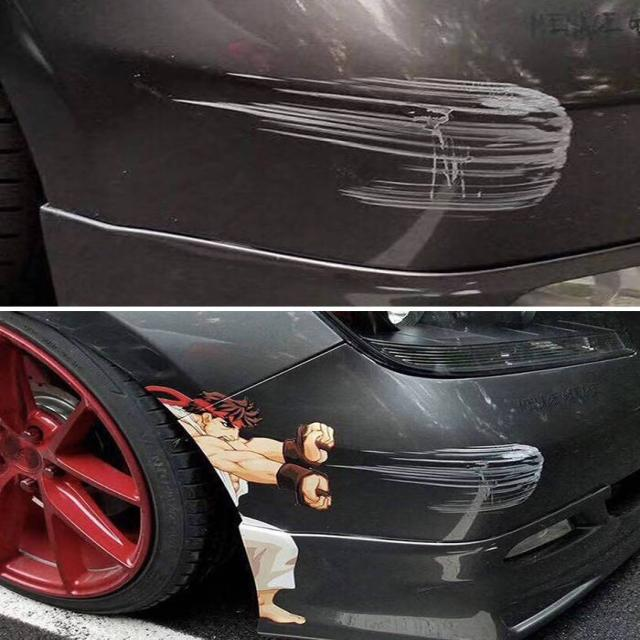scratch: (164, 69, 573, 224), (323, 441, 545, 514)
